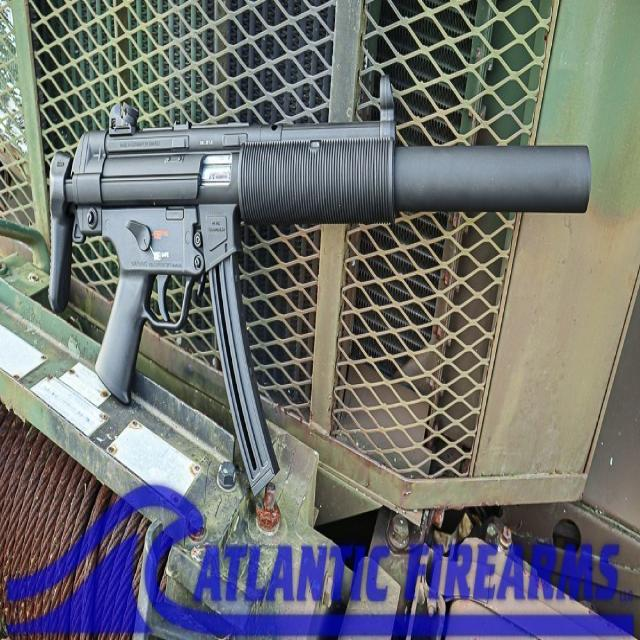SMG: (47, 123, 591, 508)
